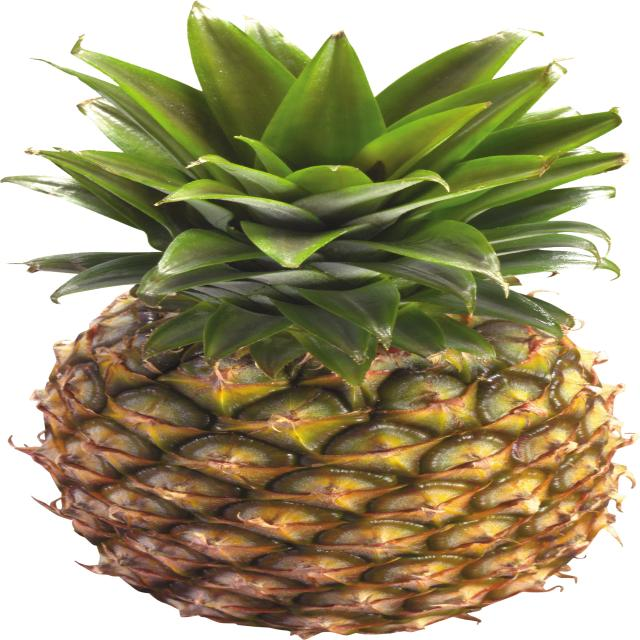pineapple: (0, 123, 615, 640)
